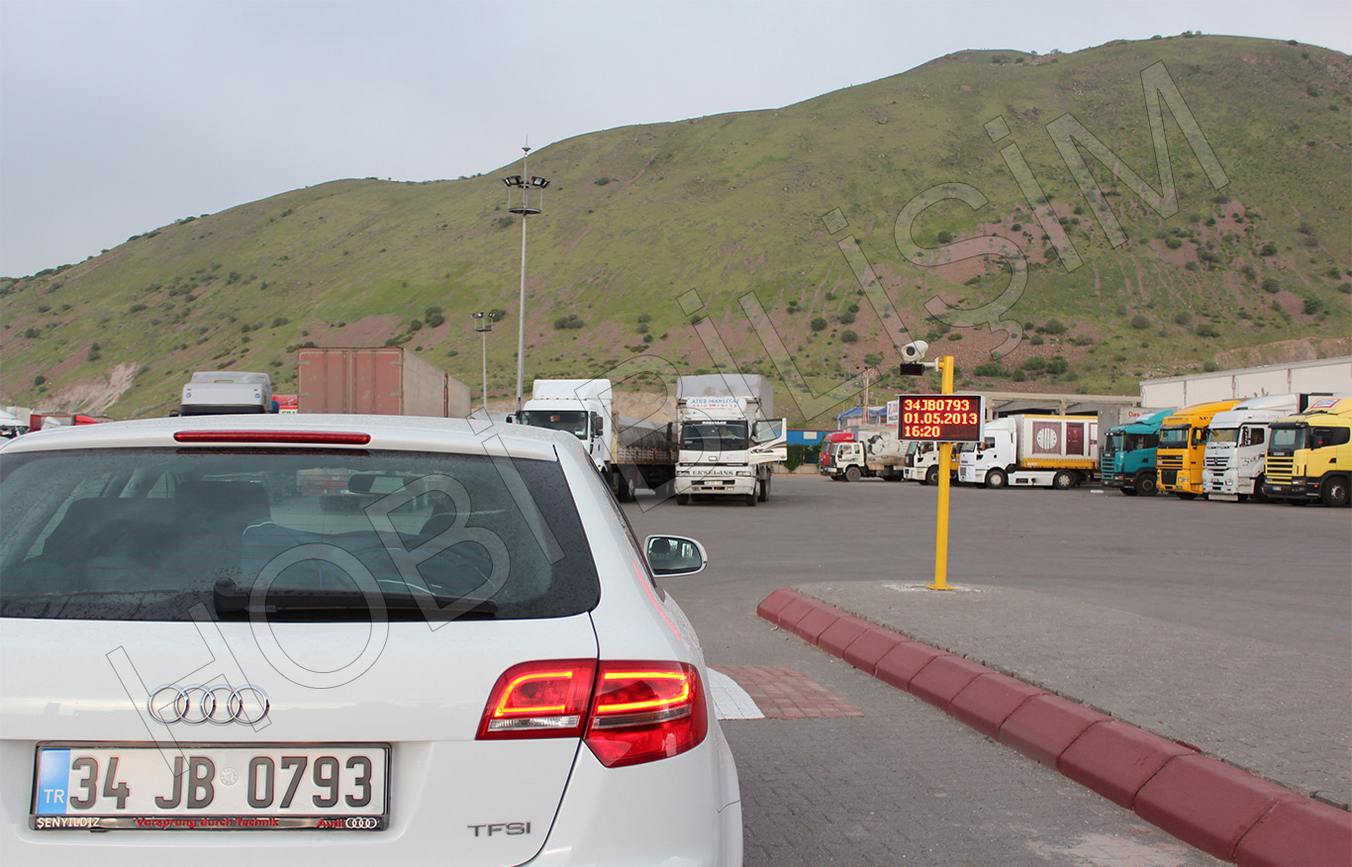plate: (29, 742, 395, 835)
